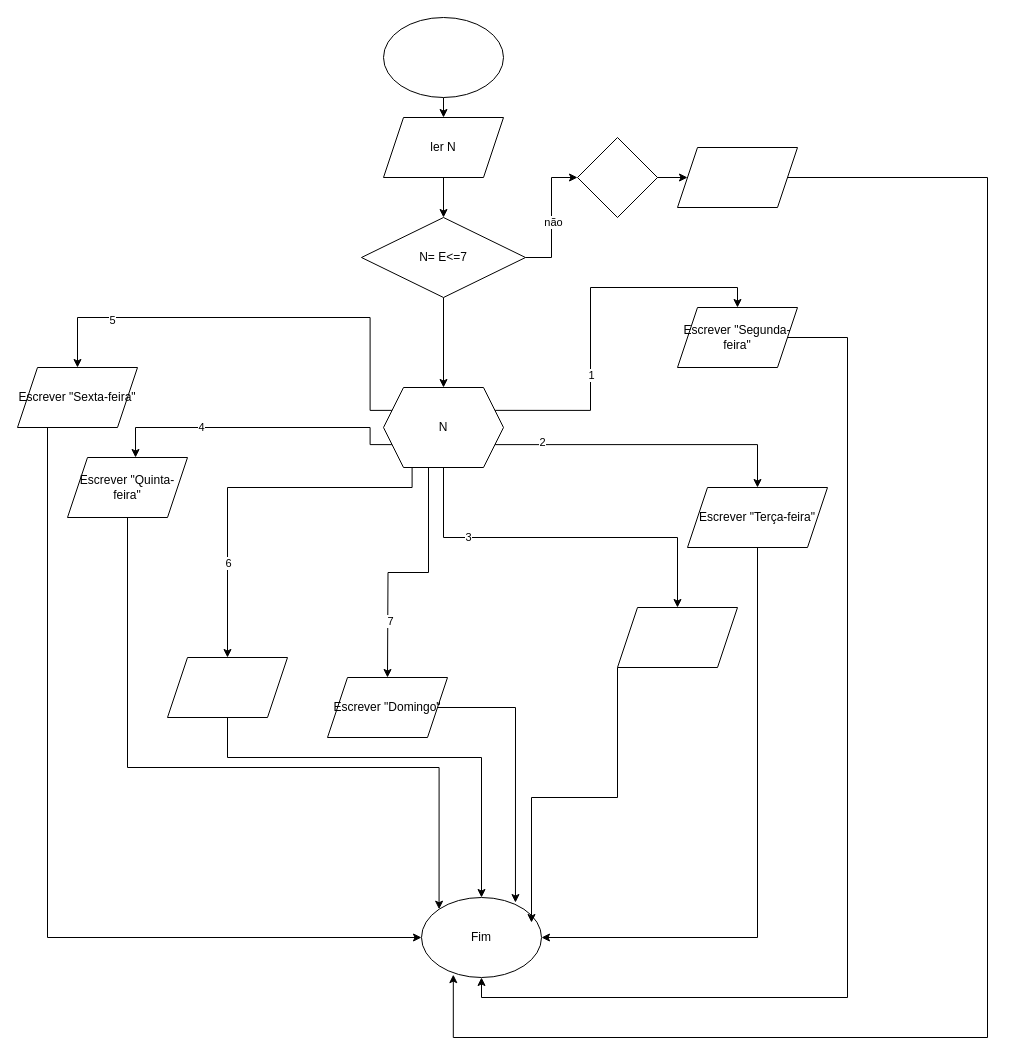
The diagram is 1013 pixels wide and 1063 high, and some of its shapes have lost their labels. The shapes that lost their labels are listed below. From the top down, each one's centre as x and y in pixels, then its label:
[443,57]: início
[617,177]: N>7
[737,177]: Escrever "Erro"
[677,637]: Escrever "Quarta-feira"
[227,687]: Escrever "Sábado"
